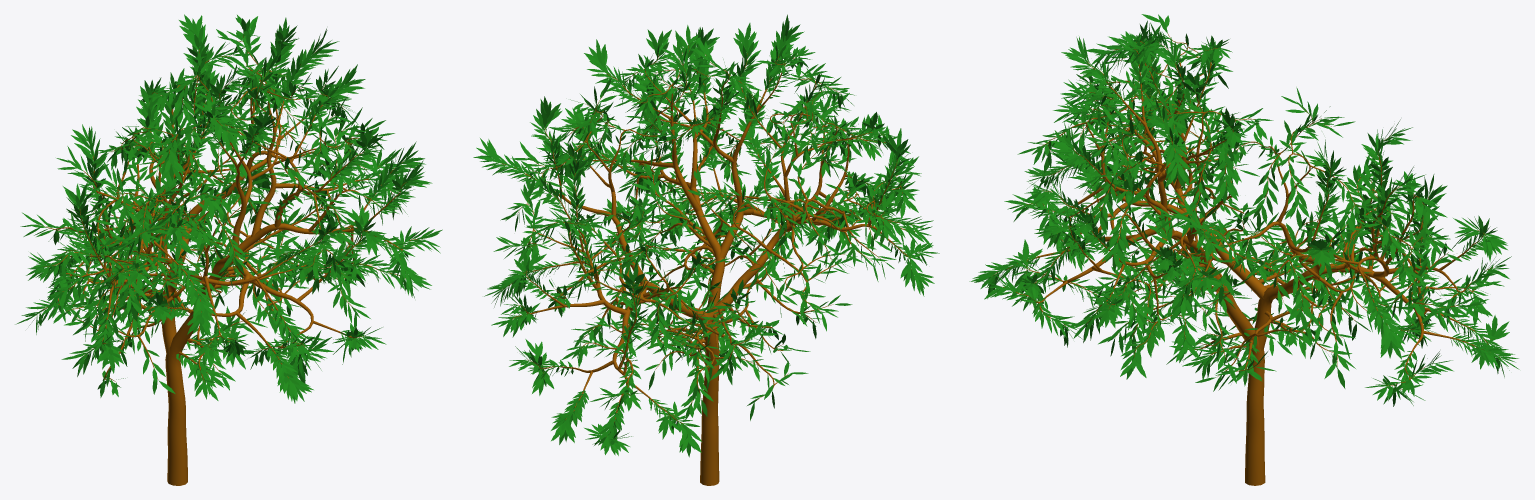
The model's file is Tree1.fbx.
The picture shows the model from 3 angles, left to right: view 1: azimuth 30°, elevation 25°; view 2: azimuth 150°, elevation 25°; view 3: azimuth 270°, elevation 25°; orthographic projection. The views are drawn at different scales.
Parts seen in each view (by area): view 1: leaves, tree; view 2: leaves, tree; view 3: leaves, tree.
Part boxes in pixels (left/top/right/bottom): leaves: left=15, top=14, right=442, bottom=403; tree: left=36, top=35, right=422, bottom=485; leaves: left=473, top=14, right=939, bottom=457; tree: left=502, top=46, right=919, bottom=485; leaves: left=969, top=14, right=1519, bottom=406; tree: left=993, top=33, right=1499, bottom=485.
Bounding box in the file's own units: 705 × 741 × 799.
